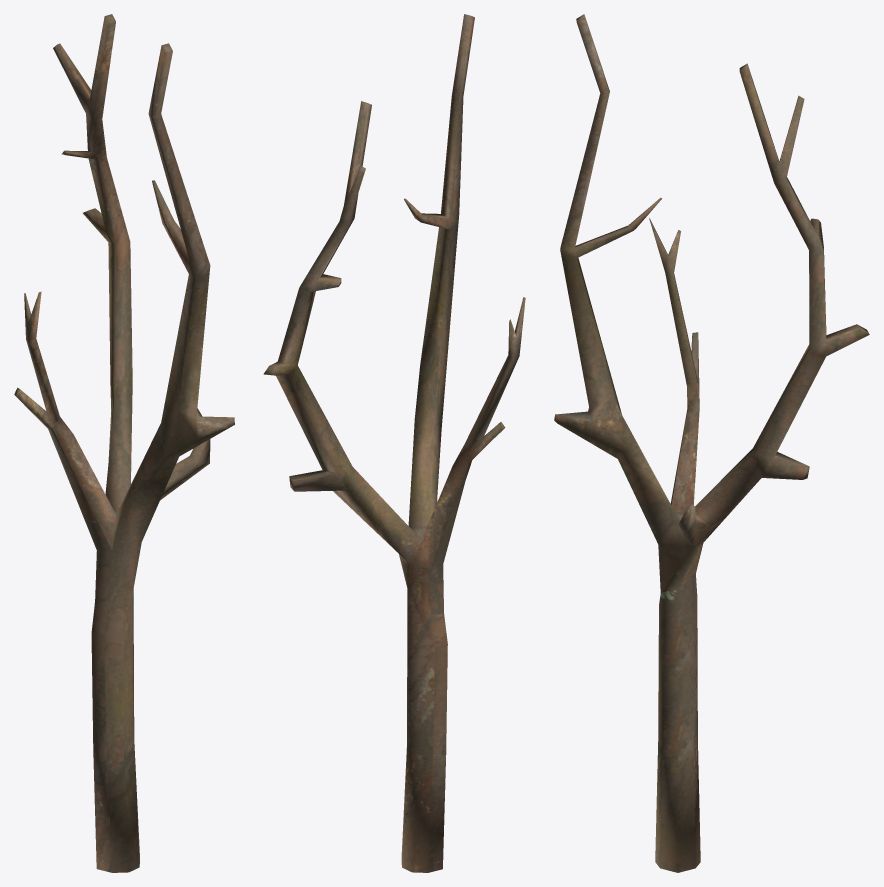
3 views of the same model, side by side, from view 1: azimuth 30°, elevation 25°; view 2: azimuth 150°, elevation 25°; view 3: azimuth 270°, elevation 25° (orthographic). The views are drawn at different scales.
Parts seen in each view (by area): view 1: tree2; view 2: tree2; view 3: tree2.
Boxes of the visible parts, x1,y1,x2,y2 form: tree2: (14,14,234,872); tree2: (263,14,525,872); tree2: (554,14,869,872).
Size of the model in its own units: 261 by 1099 by 372.
Materials: 1 (1 with a texture image).
